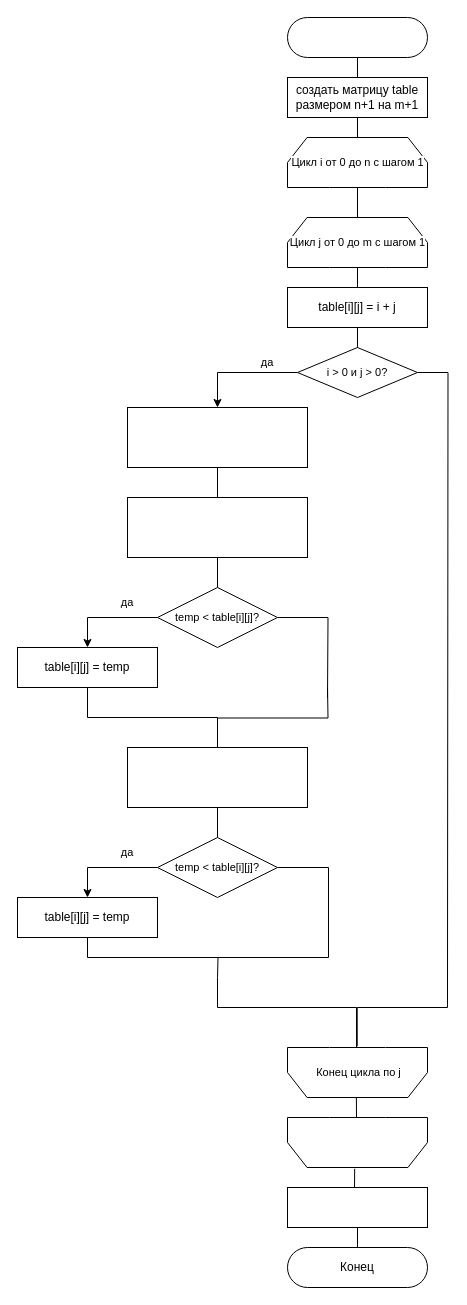
Image size: 467x1305. Some labels were removed from this diagram. The centre of each missing label's shape, as x and y in pixels:
table[i][j] = table[i-1][j-1] + (first[i-1] != second[j-1]): pixel 217 437
temp = table[i-1][j]+ 1: pixel 217 527
temp = table[i][j-1] + 1: pixel 217 777
вернуть table[i][j]: pixel 357 1207
Конец цикла по i: pixel 357 1117
Начало: pixel 357 37
